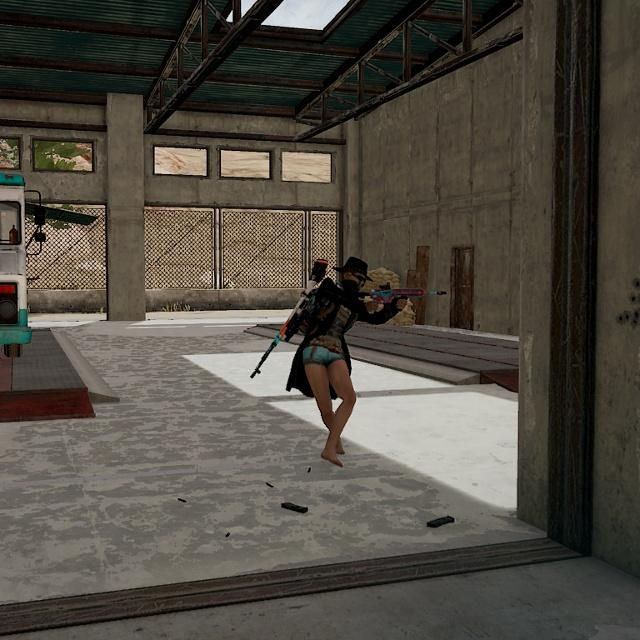head: (339, 255, 370, 297)
people: (298, 255, 378, 469)
